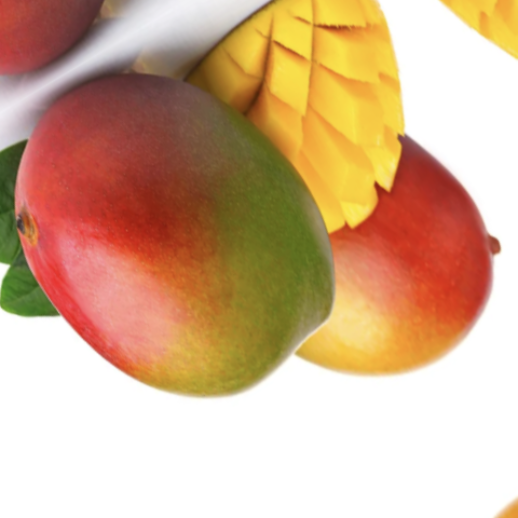mango: (0, 0, 397, 473), (163, 52, 518, 453)
